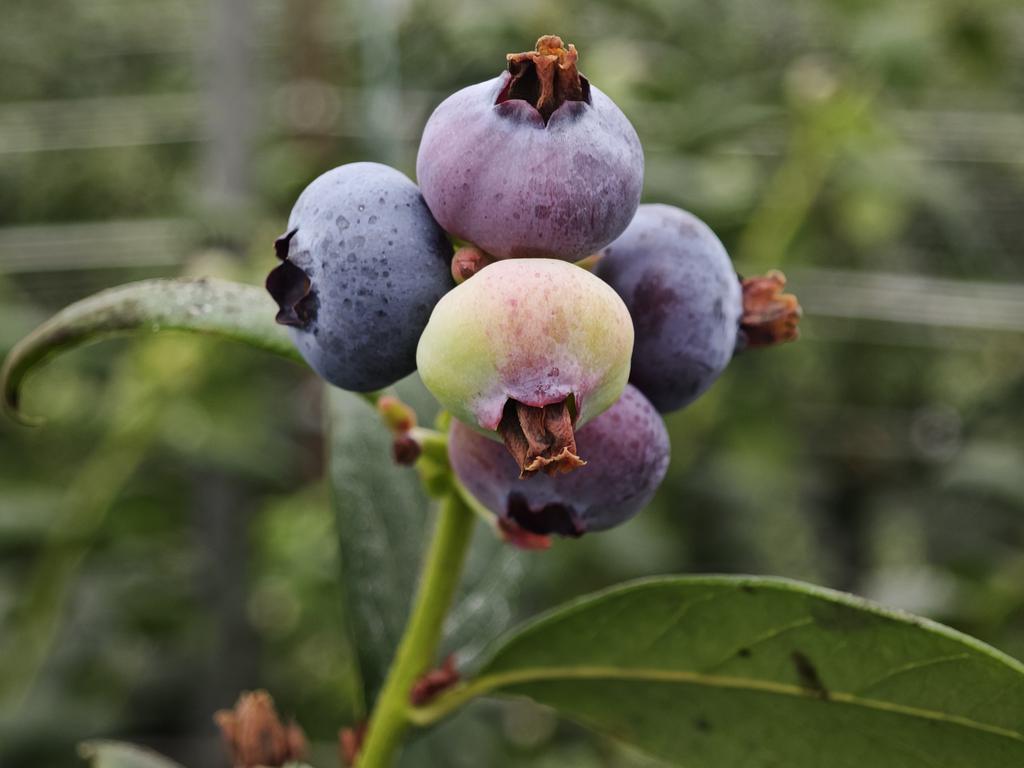Semi-RipeBlueBerry: (418, 50, 642, 261), (416, 250, 633, 440), (281, 161, 443, 389)
